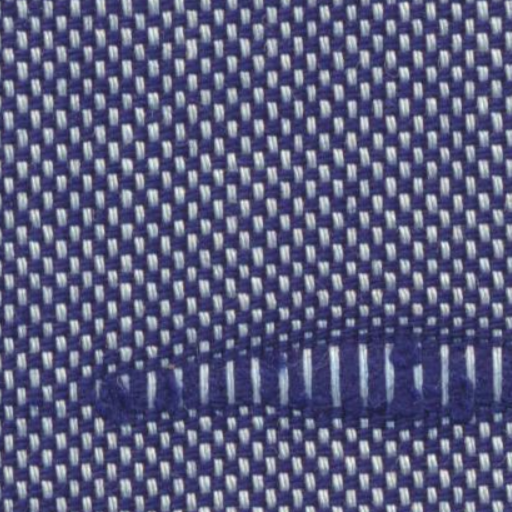DaiSha: (97, 308, 504, 455)
